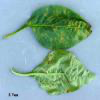Bell_pepper leaf spot: (26, 49, 98, 96), (23, 6, 97, 51)
